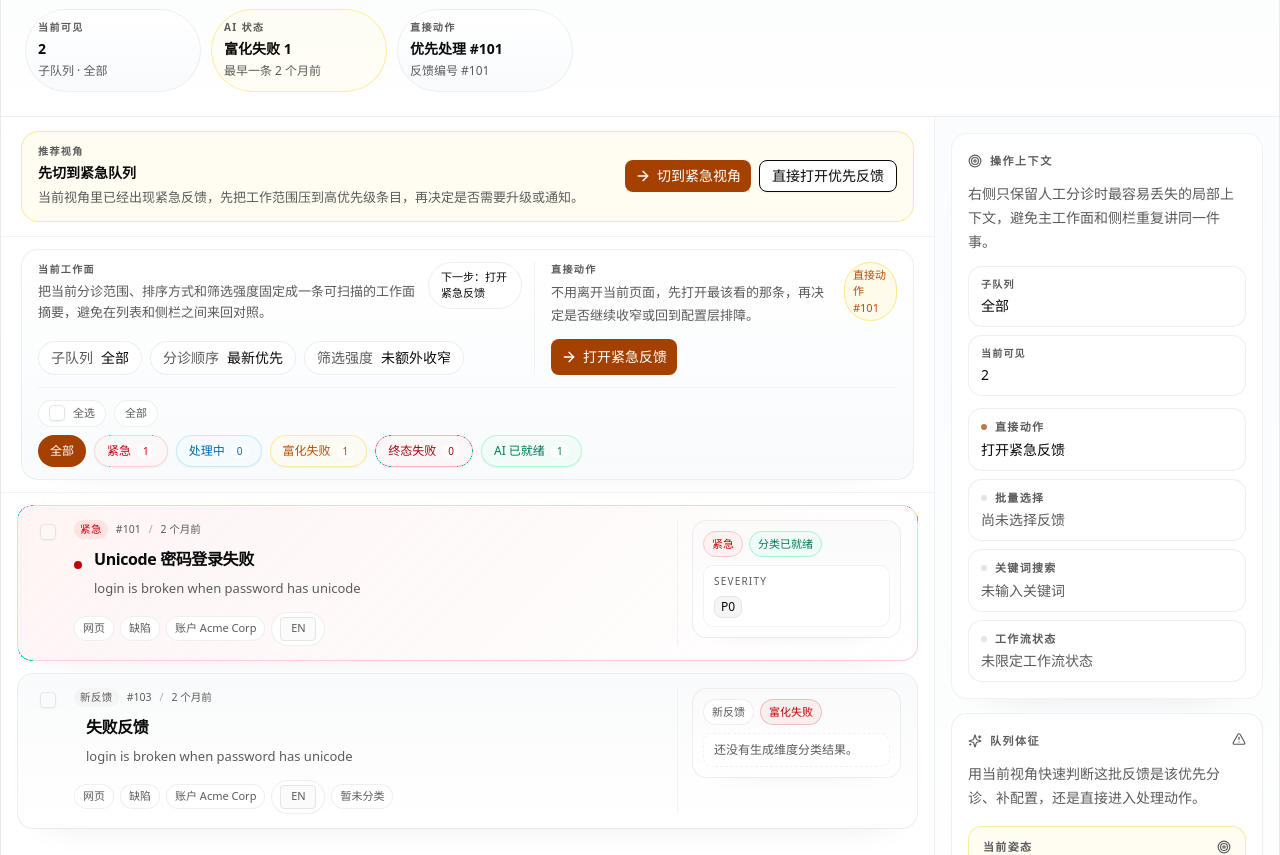
Scenario: _authed.feedback route — user flow smoke › queue mode active chip can be removed to restore the broader local queue
(page scrolled)
Check: the text "失败反馈" is shown, box [86, 716, 148, 738]
Click the button named "富化失败1" at (318, 450), box [270, 434, 367, 466]
(page scrolled)
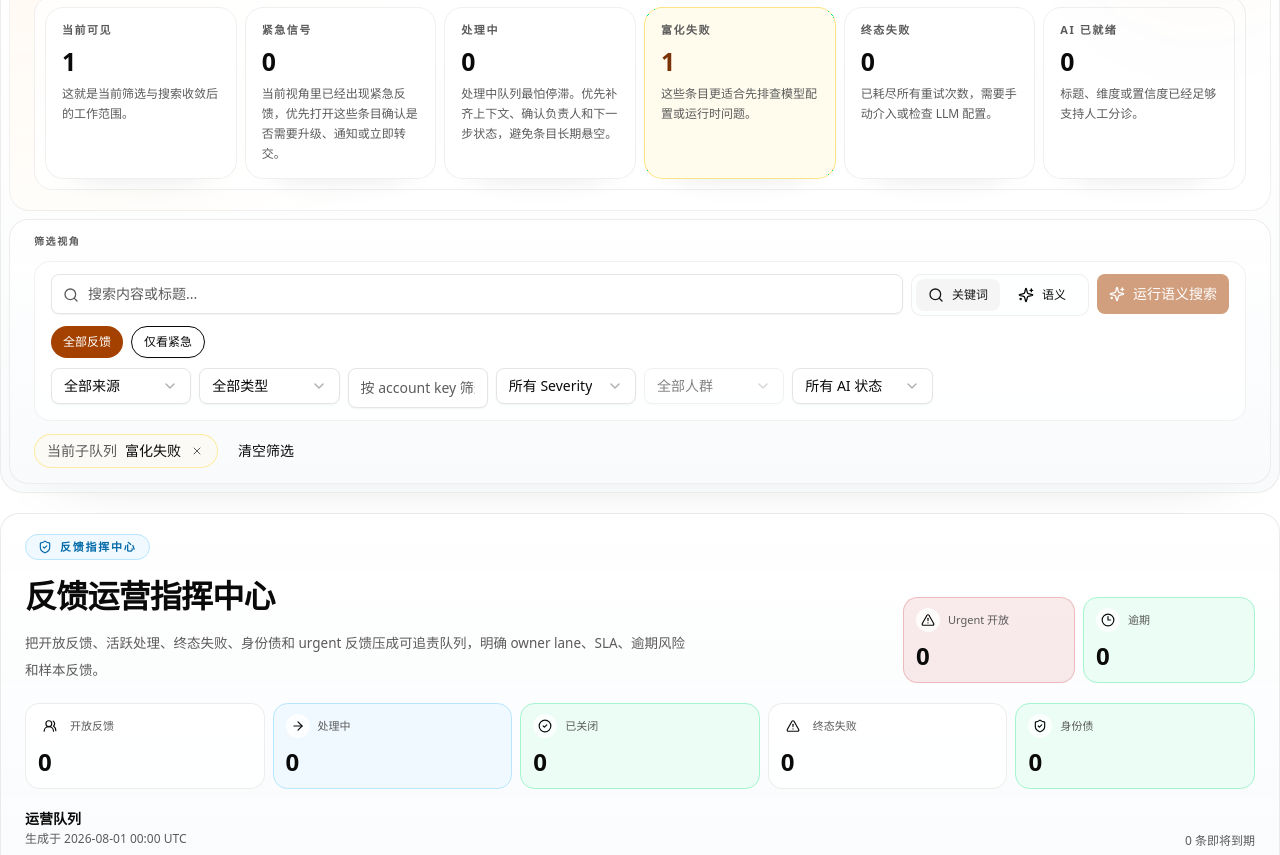
Check: the button named "当前子队列 富化失败" is shown
Check: the button "Unicode 密码登录失败" is gone
Click the button named "当前子队列 富化失败" at (197, 451), box [189, 443, 205, 459]
(page scrolled)
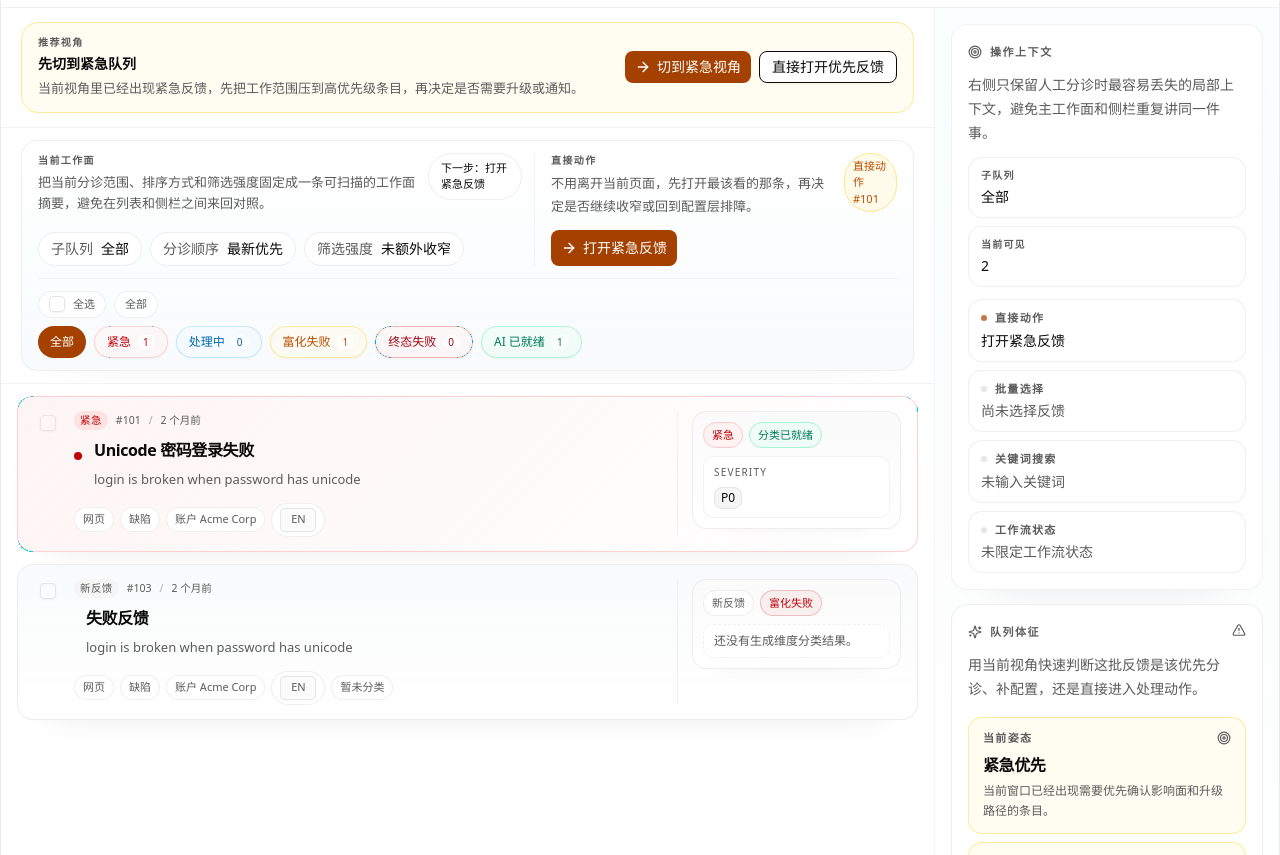
Check: the field labelled "当前子队列 富化失败" is gone
Check: the text "Unicode 密码登录失败" is shown, box [94, 439, 254, 461]
